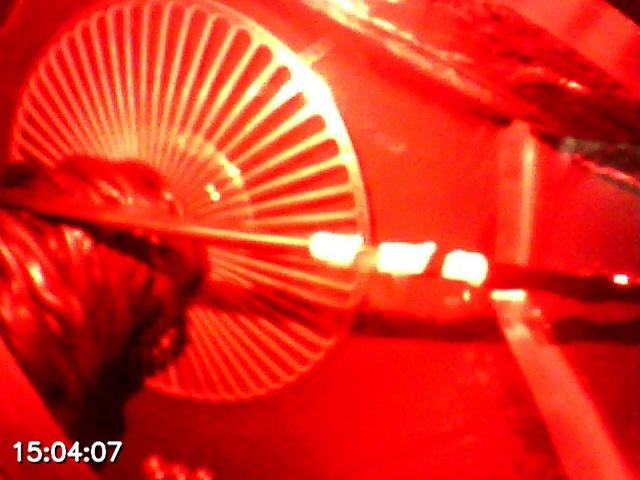white-dots: (308, 231, 490, 288)
